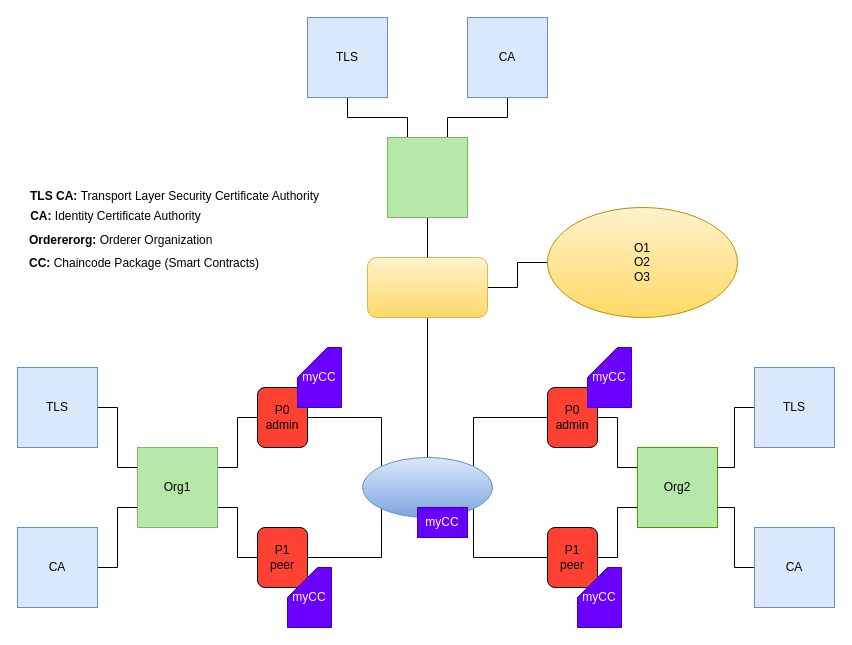
Image size: 852x645. Some labels were removed from this diagram. Here are the shapes that lost their labels. From the top down, the centre of each, then its label:
the point at 427,177: OrdererOrg
the point at 427,287: RAFT ORDERING SERVICE
the point at 427,487: channel
